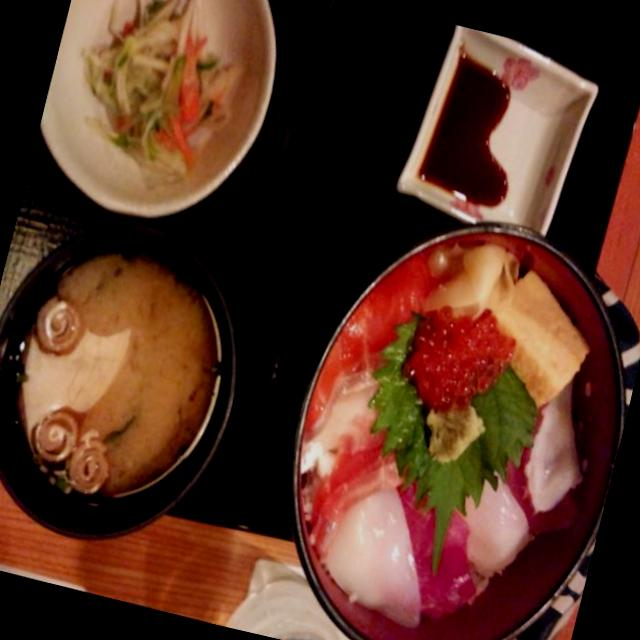Green Salad: (46, 0, 273, 217)
